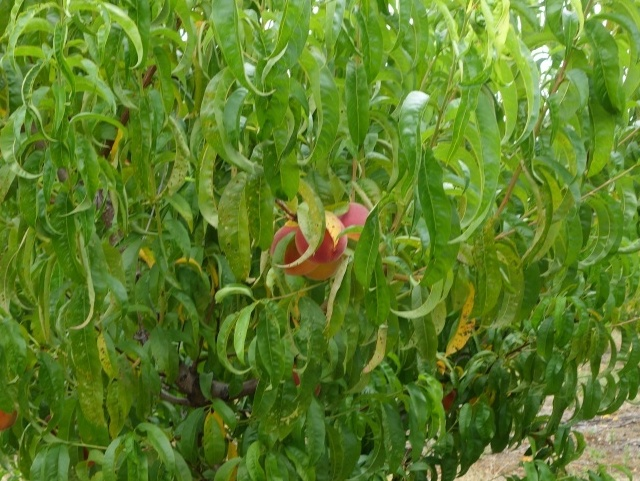peach: (289, 211, 350, 270), (266, 218, 306, 279), (298, 245, 346, 293), (327, 192, 373, 239)
